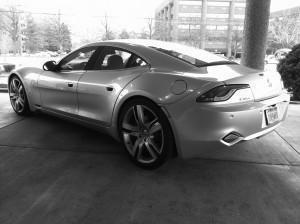car: (6, 40, 294, 176)
